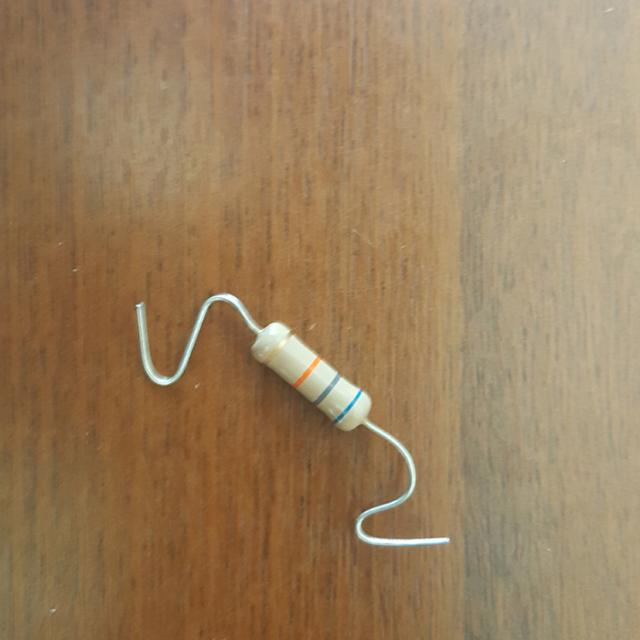blue: (334, 390, 363, 424)
gold: (263, 332, 293, 365)
grey: (315, 374, 340, 406)
orange: (293, 357, 321, 388)
resistor: (233, 308, 380, 446)
